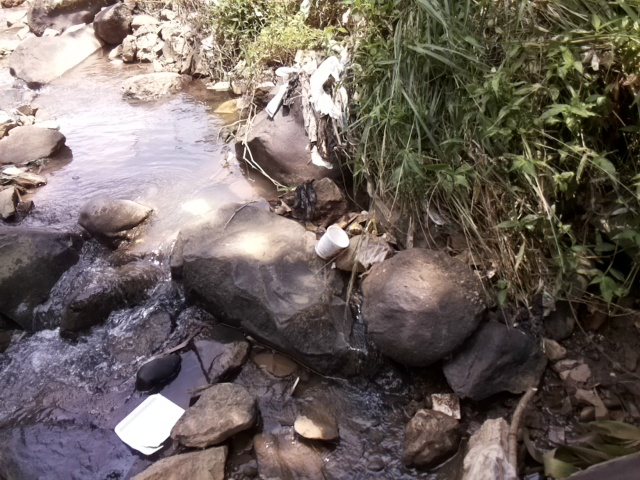Sampah_Styrofoam: (113, 391, 190, 459), (311, 220, 350, 264)
